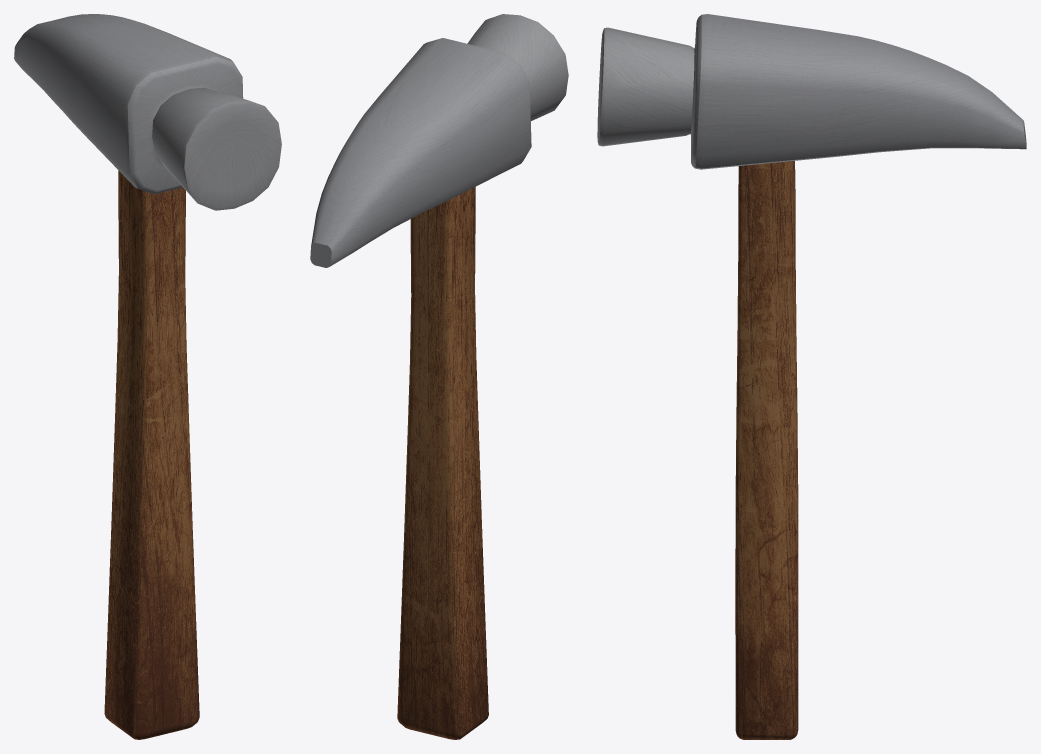
File: Hammer.fbx
3 views of the same model, side by side, from view 1: azimuth 30°, elevation 25°; view 2: azimuth 150°, elevation 25°; view 3: azimuth 270°, elevation 25° (orthographic). The views are drawn at different scales.
Parts seen in each view (by area): view 1: Box001; view 2: Box001; view 3: Box001.
Part boxes in pixels (x1,y1,x2,y2): Box001: (14,14,281,739); Box001: (310,14,568,739); Box001: (597,14,1026,739).
Bounding box in the file's own units: 28.92 × 162 × 90.64.
